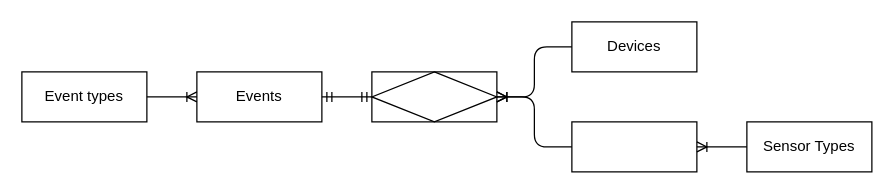
This 894x194 diagram has some shape labels left out. The shapes that lost their labels are listed below. From the top down, each one's centre as x and y in pixels, then its label:
At [434,96]: "Devices Sensors".
At [634,146]: "Sensors".
